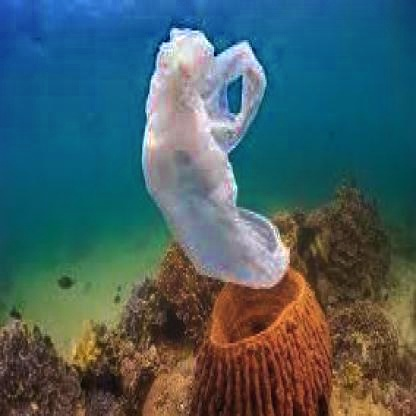pbag: (135, 14, 294, 296)
